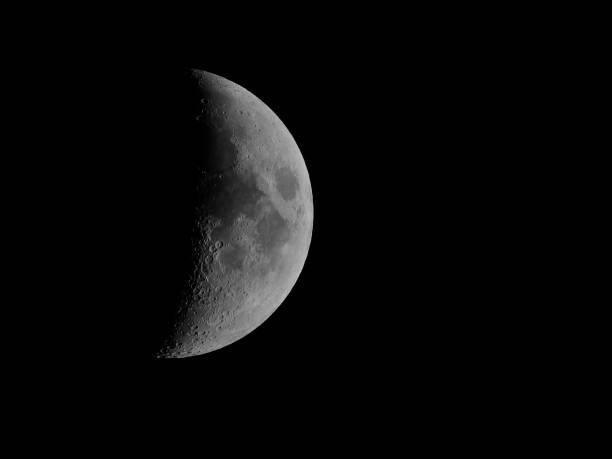moon: (42, 39, 316, 360)
